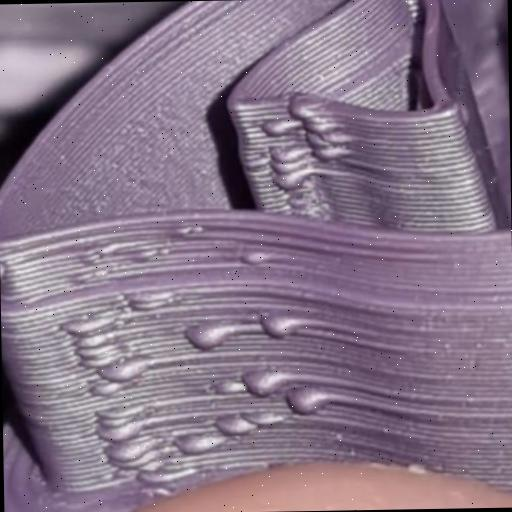blobs: (108, 440, 160, 478), (182, 316, 228, 356), (281, 384, 327, 421), (126, 285, 174, 319), (261, 306, 302, 342), (206, 372, 252, 402), (243, 367, 285, 399), (175, 430, 218, 460), (78, 336, 118, 368), (217, 413, 262, 441), (102, 358, 143, 388), (96, 420, 141, 446), (64, 310, 96, 342), (261, 112, 293, 142), (270, 144, 305, 168), (242, 247, 272, 273), (274, 172, 304, 194), (292, 94, 318, 118), (270, 158, 306, 174), (306, 114, 334, 134), (314, 142, 336, 166), (328, 126, 352, 146)
